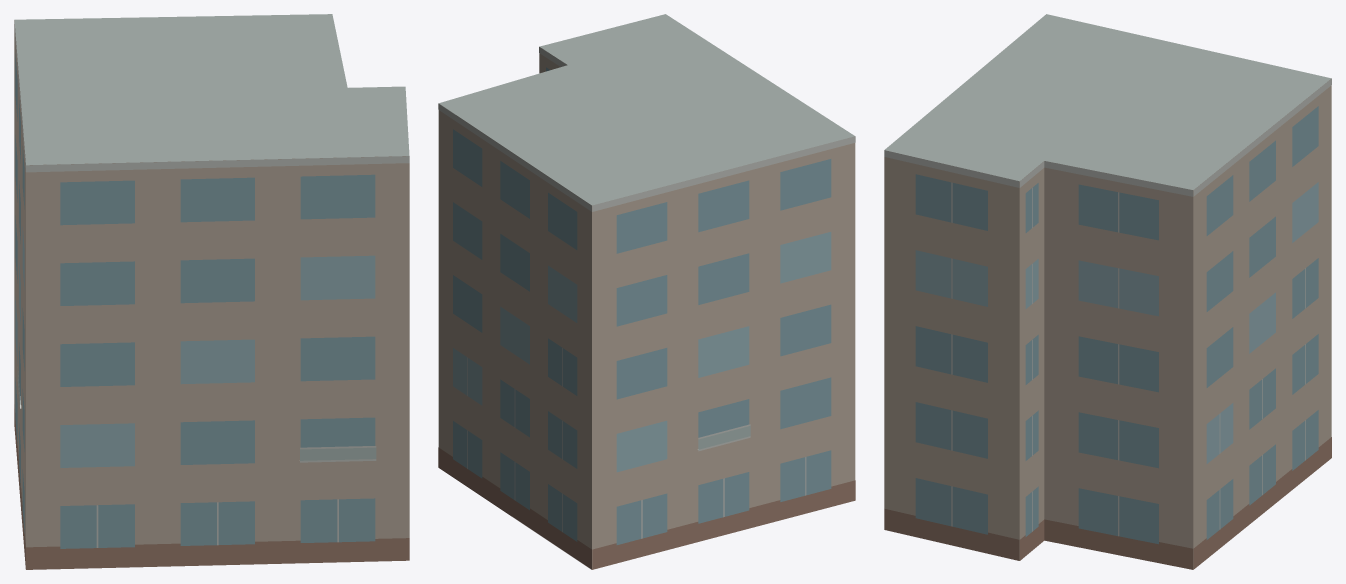
The model's file is survey-upis-32960306.glb.
3 renders of one model, left to right at view 1: azimuth 30°, elevation 25°; view 2: azimuth 150°, elevation 25°; view 3: azimuth 270°, elevation 25°, orthographic. The views are drawn at different scales.
Parts seen in each view (by area): view 1: survey-upis-32960306.tmp; view 2: survey-upis-32960306.tmp; view 3: survey-upis-32960306.tmp.
Boxes of the visible parts, box(x1,y1,x2,y2) form: survey-upis-32960306.tmp: box(14, 14, 409, 569); survey-upis-32960306.tmp: box(438, 14, 855, 569); survey-upis-32960306.tmp: box(884, 14, 1331, 569).
Bounding box in the file's own units: 13.64 × 13.7 × 14.64.
